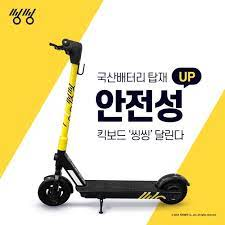kick_body: (83, 180, 157, 199)
kick_handler: (50, 38, 83, 64)
kick_neck: (55, 65, 79, 164)
kick_wheel: (38, 176, 70, 206), (159, 173, 187, 204)
